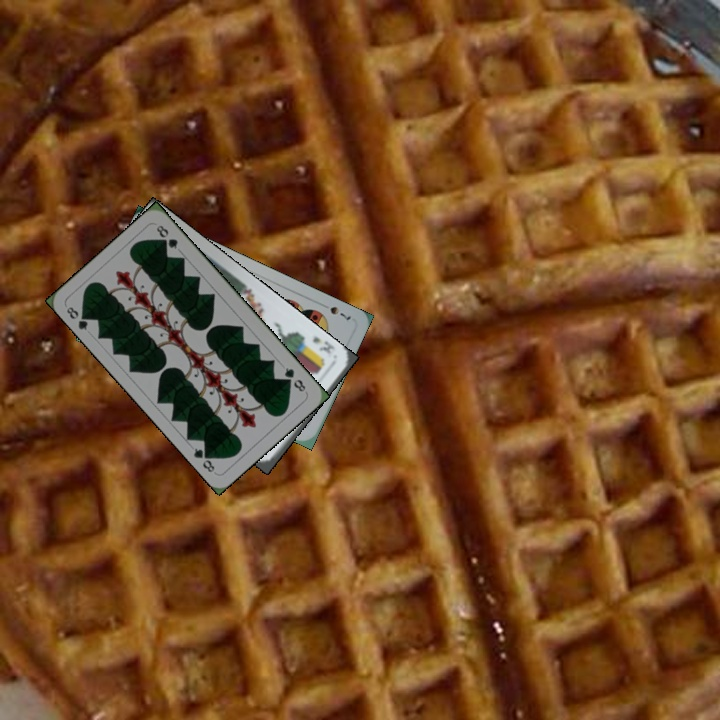EK: (309, 332, 337, 356)
G8: (280, 363, 309, 395), (62, 303, 92, 333)
S7: (316, 299, 354, 323)
